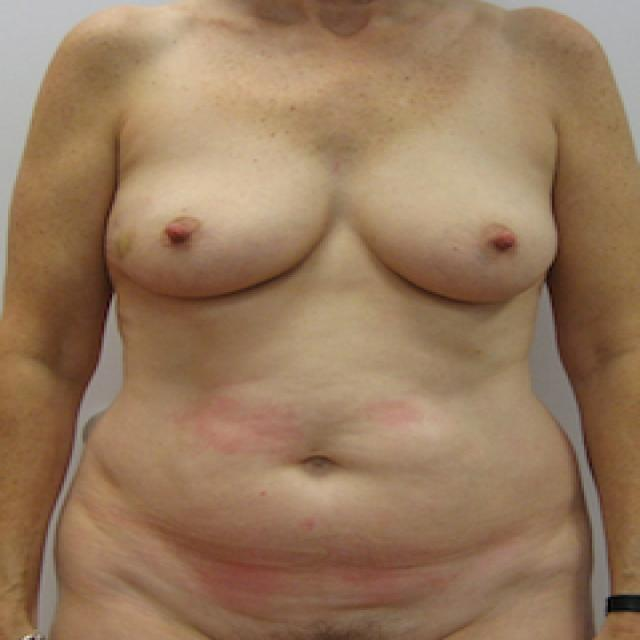Seno herido: (93, 107, 337, 320)
Seno ileso: (342, 107, 572, 320)
